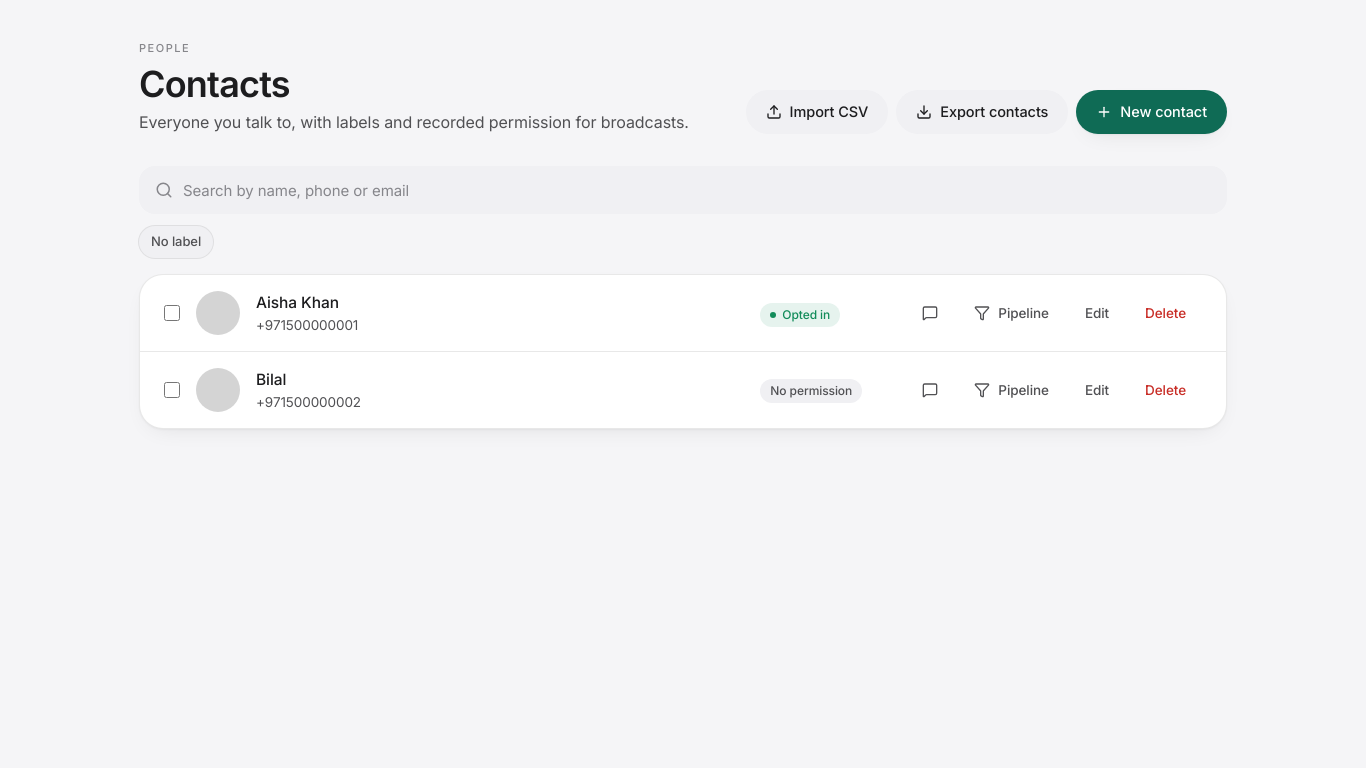
Scenario: Contacts and the pipeline › adds one contact to the pipeline from their row
Check: the text "Bilal" is shown, box [256,370,286,389]
Click the checkbox named "Select Bilal" at (172, 390), box [164,382,180,398]
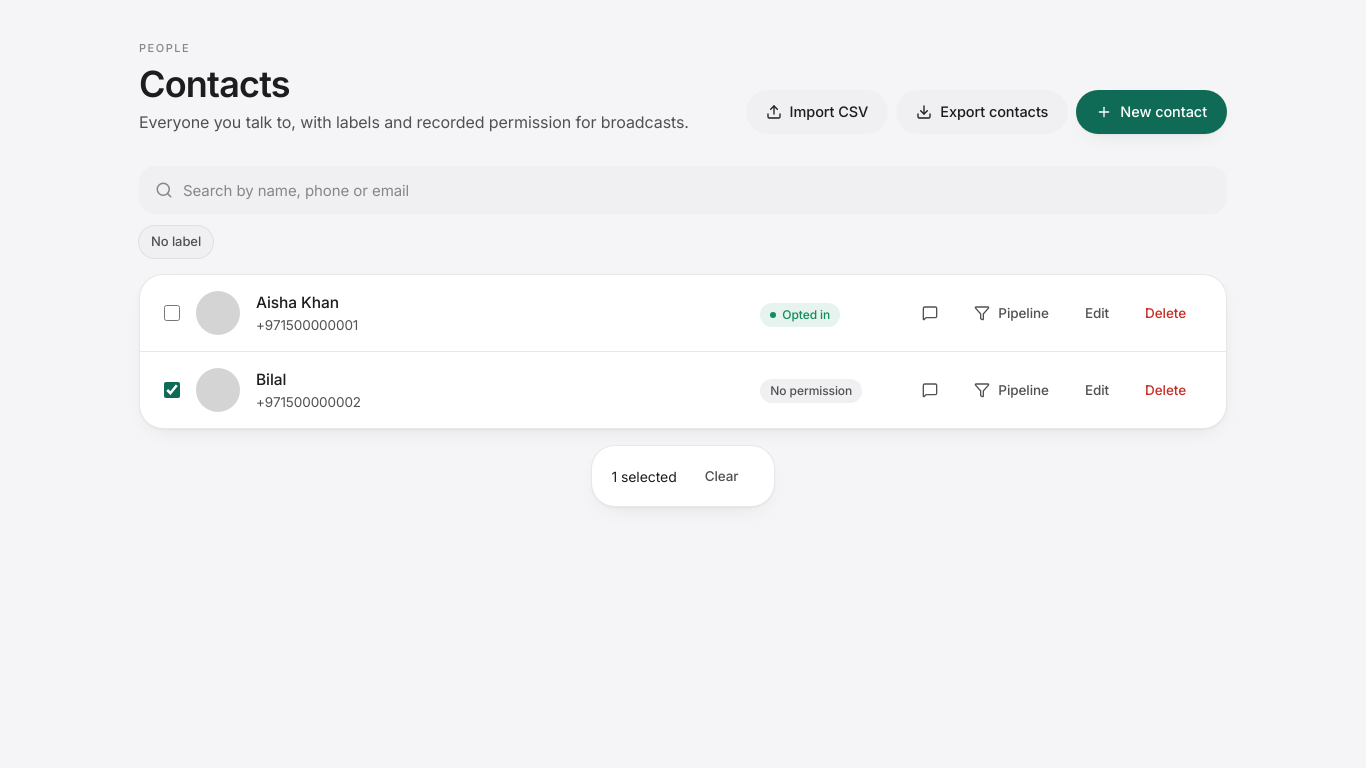
Check: the button "Add to pipeline" is not shown
Click the button with aria-label "Add Bilal to the pipeline" at (1012, 390), box [958,372,1065,408]
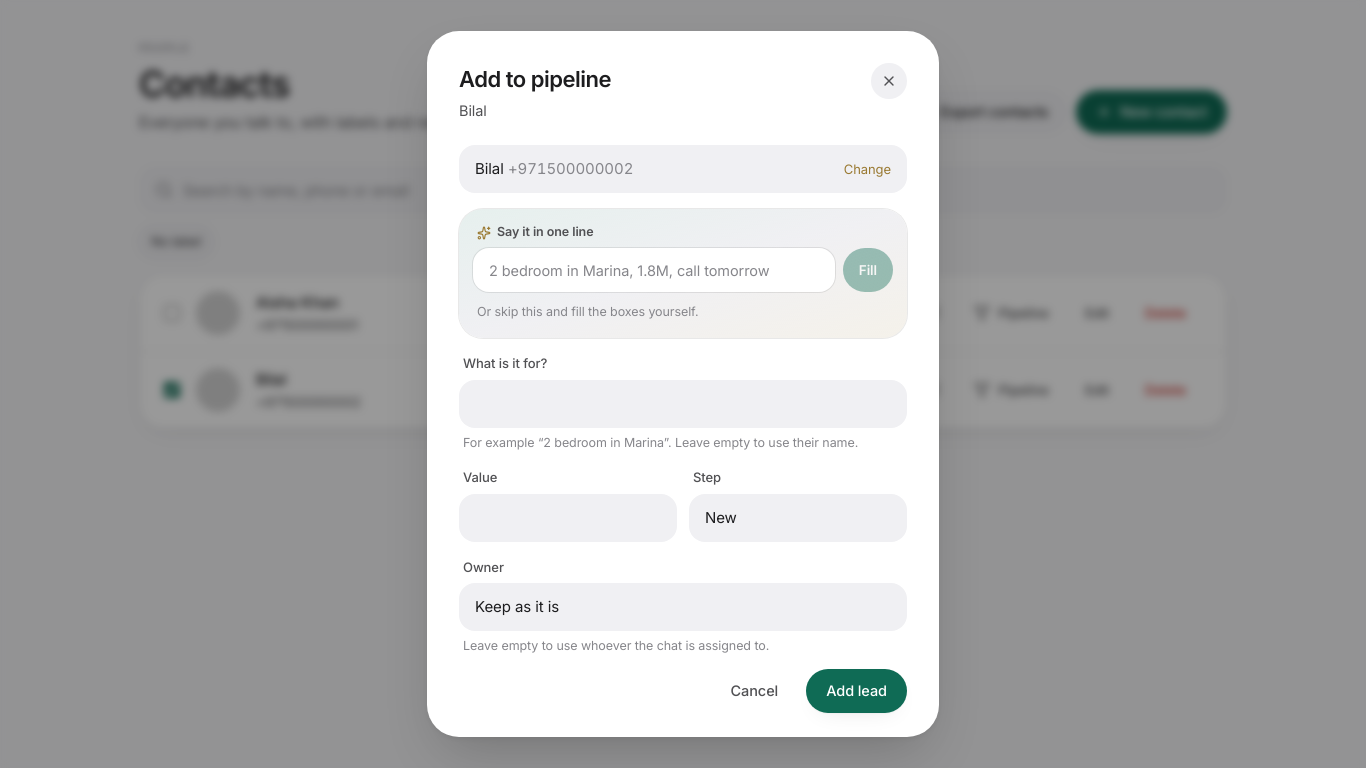
Check: the text "Bilal" is shown, box [459,102,487,119]
Click the button "Add lead" at (857, 691), box [806,669,907,713]
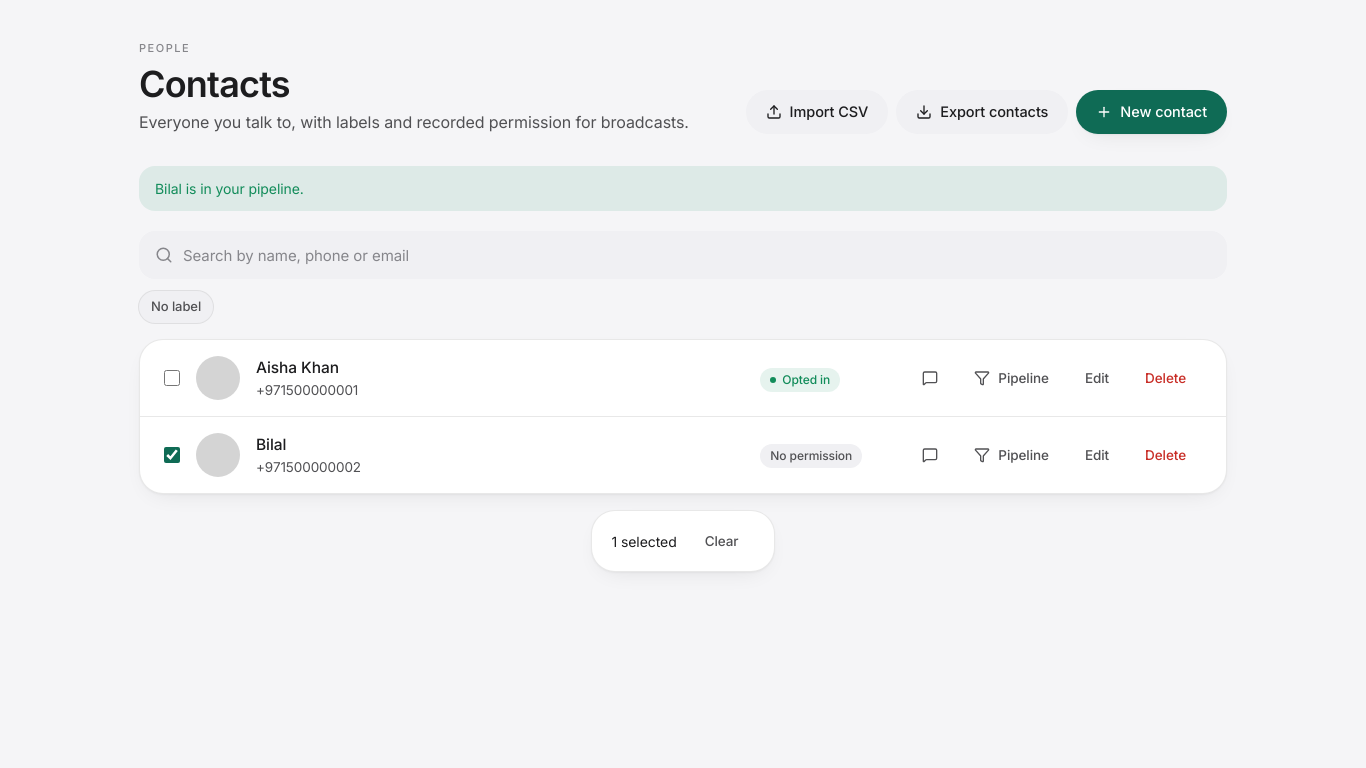
Check: the text "Bilal is in your pipeline." is shown, box [139,166,1227,211]
